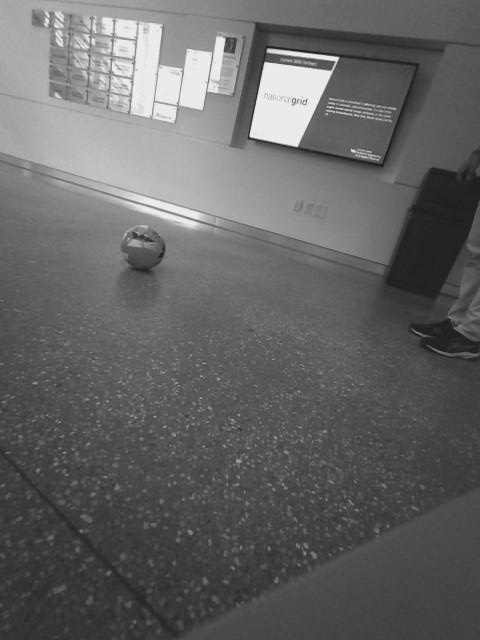ball: (117, 223, 169, 273)
